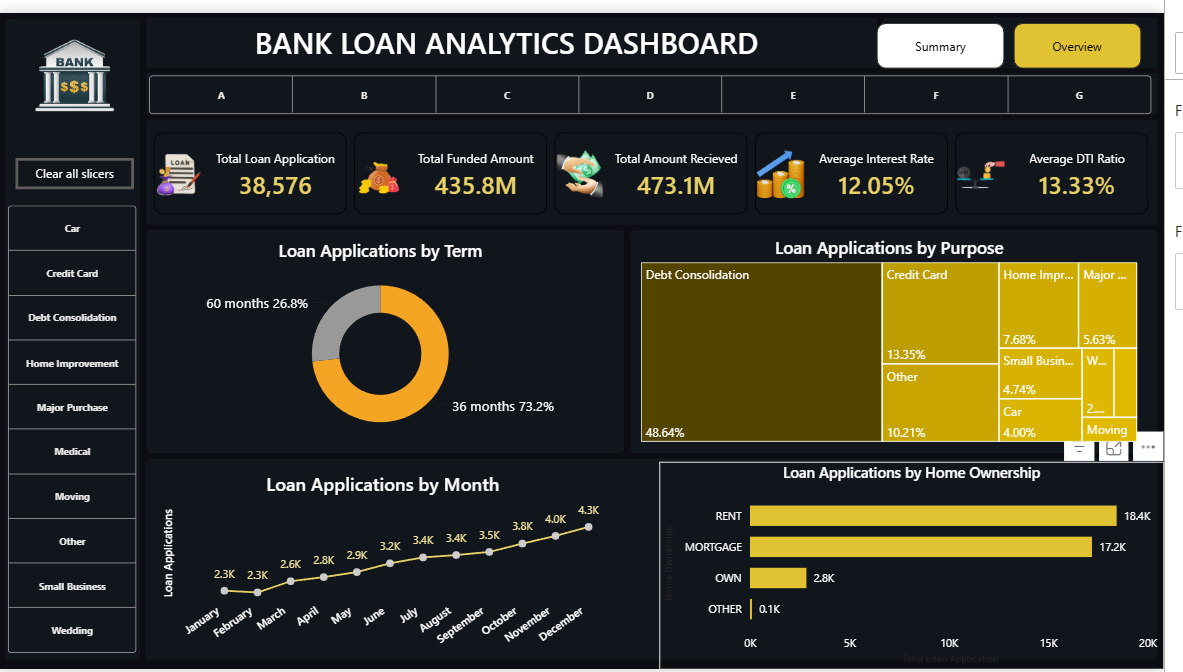

What the dashboard file says about the page in this screenshot:
{"tool":"powerbi","page":{"name":"Overview","canvas":[1280,720],"ordinal":1},"visuals":[{"type":"cardVisual","fields":{"Data":["Table.Total Loan Application","Table.Total Funded Amount","Table.Total Amount Recieved","Table.Average Interest Rate","Table.Average DTI Ratio"]},"box":[165.7,125.7,1104.3,100],"z":0},{"type":"advancedSlicerVisual","fields":{"Values":["financial_loan.PURPOSE"]},"box":[11.4,211.4,141.4,492.9],"z":1000},{"type":"actionButton","box":[18.6,158.6,130,34.3],"z":2000},{"type":"image","box":[22.9,11.4,121.4,114.3],"z":3000},{"type":"advancedSlicerVisual","fields":{"Values":["financial_loan.GRADE"]},"box":[165.7,68.6,1104.3,42.9],"z":4000},{"type":"textbox","box":[165.7,11.4,784.3,52.9],"z":5000},{"type":"lineChart","fields":{"Y":["Table.Total Loan Application"],"Category":["financial_loan.ISSUE_DATE.Variation.Date Hierarchy.Month"]},"box":[165.7,488.6,512.9,231.4],"z":6000},{"type":"donutChart","title":"Loan Applications by Term","fields":{"Y":["Table.Total Loan Application"],"Category":["financial_loan.TERM"]},"box":[177.1,248.6,485.7,227.1],"z":7000},{"type":"clusteredBarChart","title":"Loan Applications by Home Ownership","fields":{"Category":["financial_loan.HOME_OWNERSHIP"],"Y":["Table.Total Loan Application"]},"box":[725.7,492.9,554.3,227.1],"z":8000},{"type":"treemap","title":"Loan Applications by Purpose","fields":{"Group":["financial_loan.PURPOSE"],"Values":["Table.Total Loan Application"]},"box":[701.4,244.3,554.3,231.4],"z":9000},{"type":"pageNavigator","box":[964.3,11.4,291.4,50],"z":10000}]}

Visuals, with their boxes on the page's 1280x720 design canvas (x1, y1, x2, y2). These are canvas units, not pixel positions in the 1183x672 screenshot, which may show the page scaled, cropped or inside an application window:
cardVisual - Table.Total Loan Application x Table.Total Funded Amount: box=[166, 126, 1270, 226]
advancedSlicerVisual - financial_loan.PURPOSE: box=[11, 211, 153, 704]
actionButton: box=[19, 159, 149, 193]
image: box=[23, 11, 144, 126]
advancedSlicerVisual - financial_loan.GRADE: box=[166, 69, 1270, 112]
textbox: box=[166, 11, 950, 64]
lineChart - Table.Total Loan Application x financial_loan.ISSUE_DATE.Variation.Date Hierarchy.Month: box=[166, 489, 679, 720]
"Loan Applications by Term" donutChart: box=[177, 249, 663, 476]
"Loan Applications by Home Ownership" clusteredBarChart: box=[726, 493, 1280, 720]
"Loan Applications by Purpose" treemap: box=[701, 244, 1256, 476]
pageNavigator: box=[964, 11, 1256, 61]
